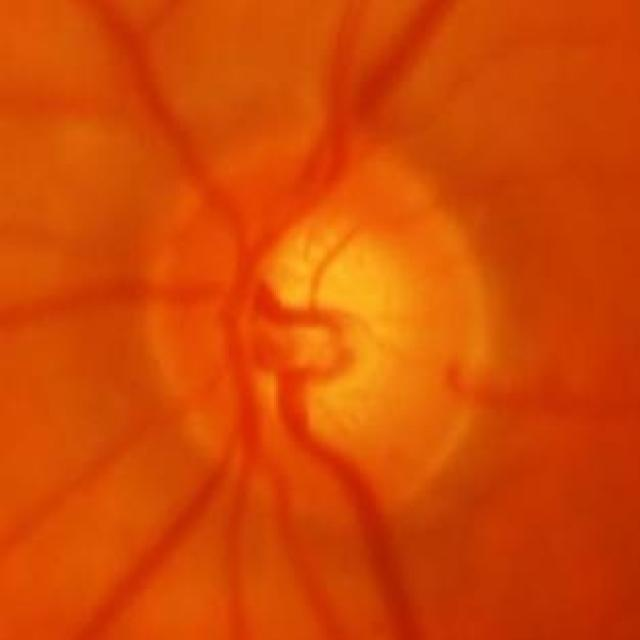OC: (247, 230, 404, 395)
OD: (146, 127, 492, 522)
